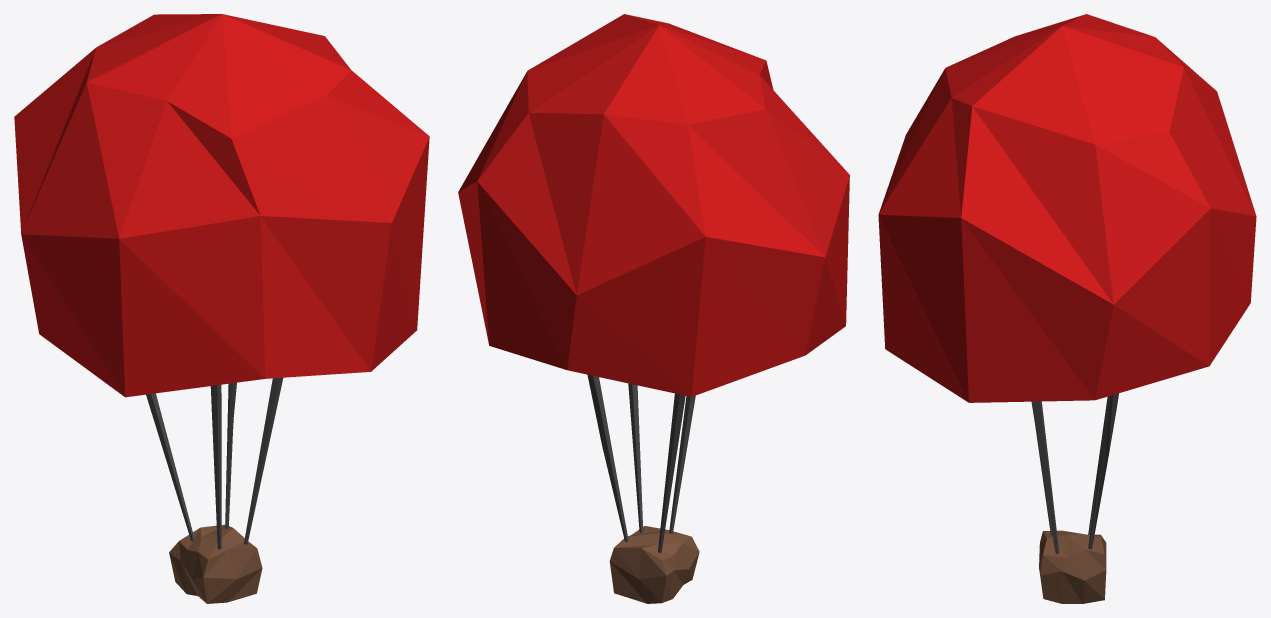
File: balon_01_vf.FBX
3 views of the same model, side by side, from view 1: azimuth 30°, elevation 25°; view 2: azimuth 150°, elevation 25°; view 3: azimuth 270°, elevation 25° (orthographic). The views are drawn at different scales.
Parts seen in each view (by area): view 1: Sphere001; view 2: Sphere001; view 3: Sphere001.
Part boxes in pixels (x1=…): Sphere001: x1=14, y1=14, x2=429, y2=603; Sphere001: x1=458, y1=14, x2=849, y2=603; Sphere001: x1=878, y1=14, x2=1256, y2=603.
Bounding box in the file's own units: 421 × 643 × 385.
Materials: 1 (1 with a texture image).
